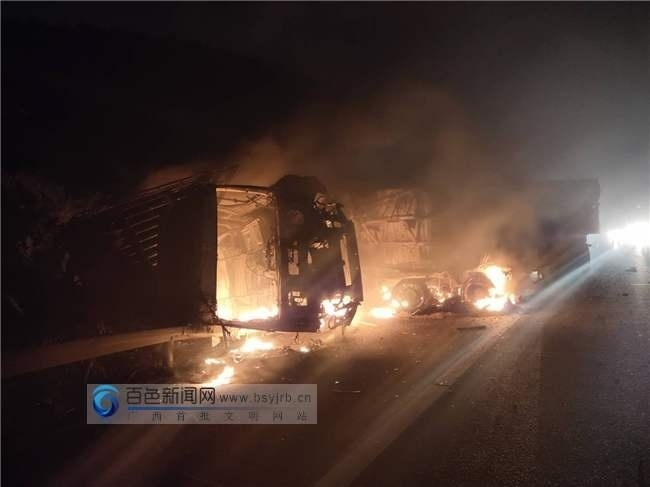fire: (316, 280, 403, 325), (466, 255, 516, 311)
